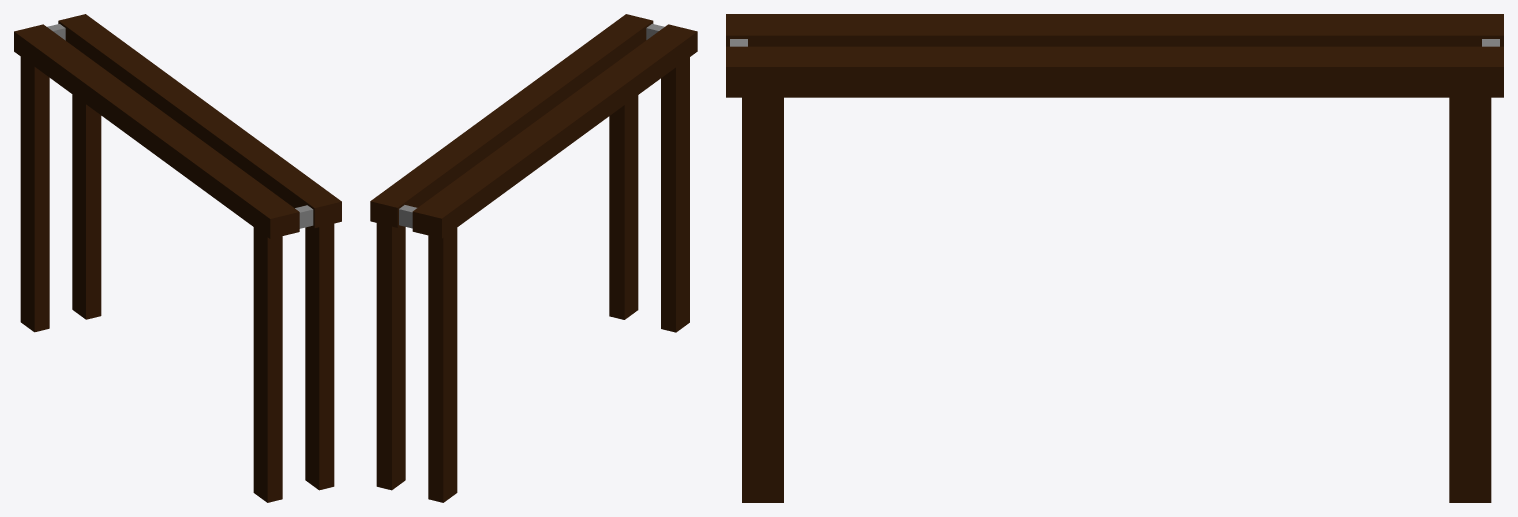
The model's file is Rack.fbx.
3 renders of one model, left to right at view 1: azimuth 30°, elevation 25°; view 2: azimuth 150°, elevation 25°; view 3: azimuth 270°, elevation 25°, orthographic. The views are drawn at different scales.
Visible parts, largest first — view 1: Cube.002; view 2: Cube.002; view 3: Cube.002.
Boxes of the visible parts, x1,y1,x2,y2 form: Cube.002: (14,14,341,502); Cube.002: (370,14,697,502); Cube.002: (726,14,1503,502).
Bounding box in the file's own units: 29.75 × 114 × 184.
